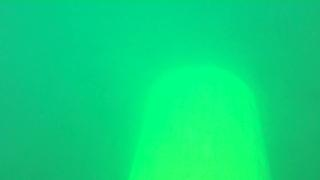pipe: (125, 64, 271, 180)
